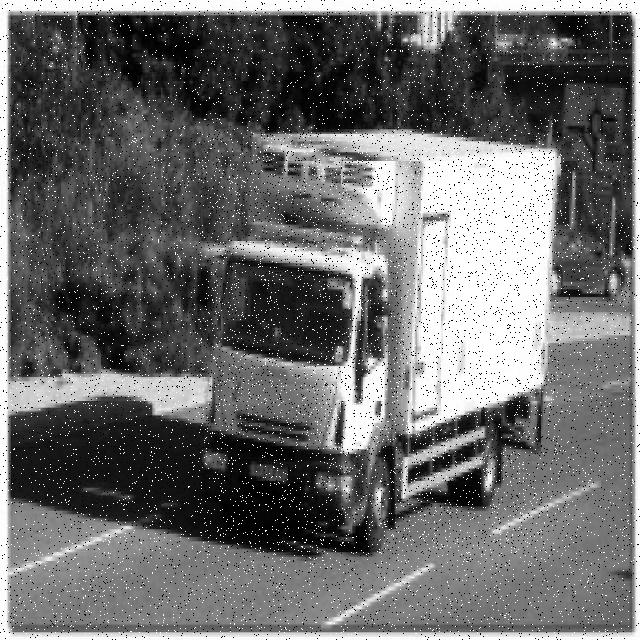Box Truck: (199, 130, 561, 555)
